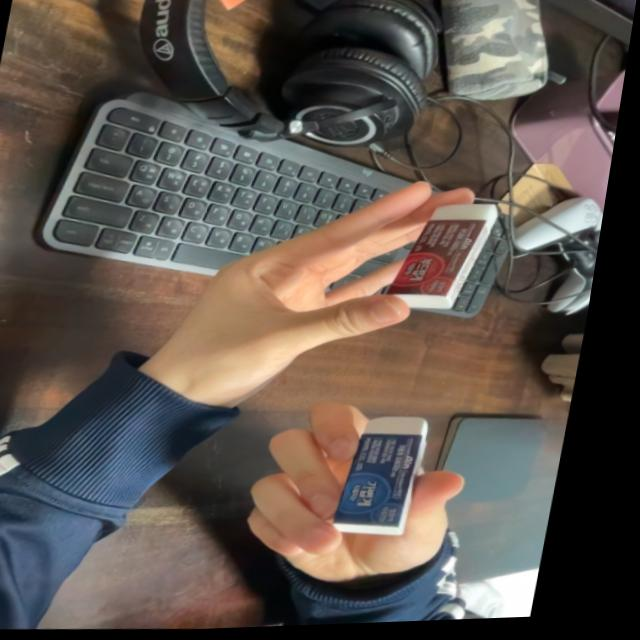blue: (337, 414, 452, 546)
red: (381, 200, 511, 320)
